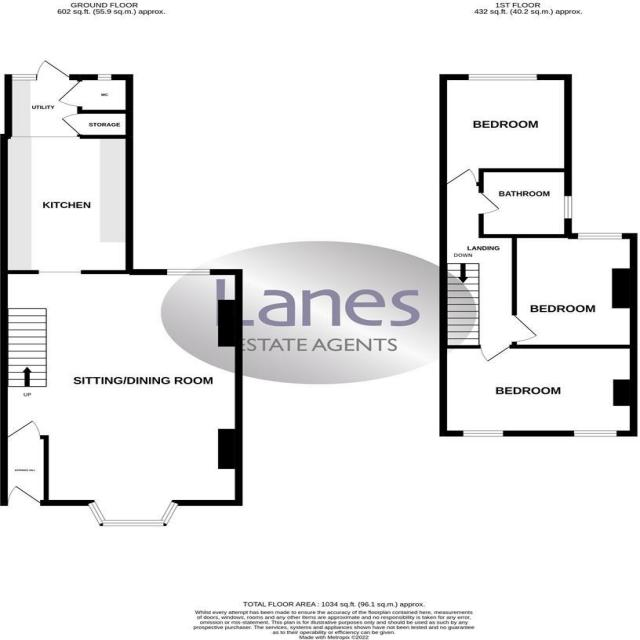DOOR: (511, 314, 539, 343), (35, 59, 71, 81), (6, 420, 41, 440), (445, 168, 477, 186), (480, 344, 511, 362), (479, 192, 500, 215)
ROOM: (0, 269, 243, 527), (0, 133, 134, 275), (439, 345, 638, 437), (439, 74, 572, 186), (511, 233, 638, 349)
WINDOW: (87, 500, 180, 527), (467, 74, 538, 81), (576, 232, 623, 240), (166, 269, 212, 276), (573, 430, 618, 437), (462, 430, 505, 437), (564, 195, 573, 219), (11, 74, 37, 81), (96, 73, 113, 82)
